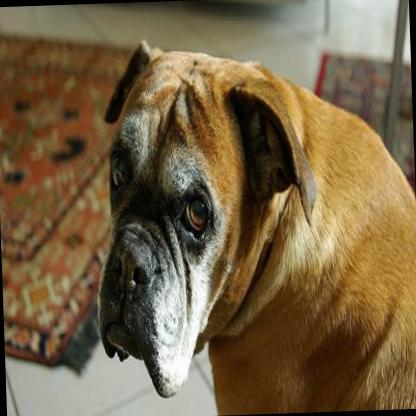boxer: (84, 23, 416, 416)
